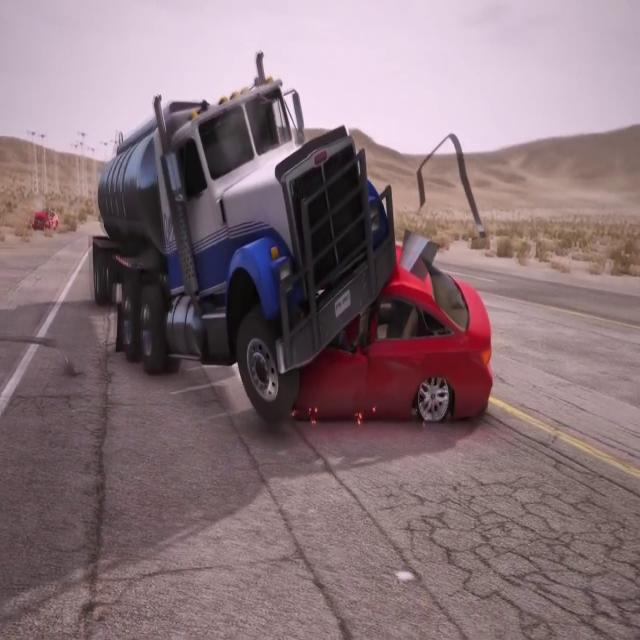accident: (90, 59, 498, 443)
